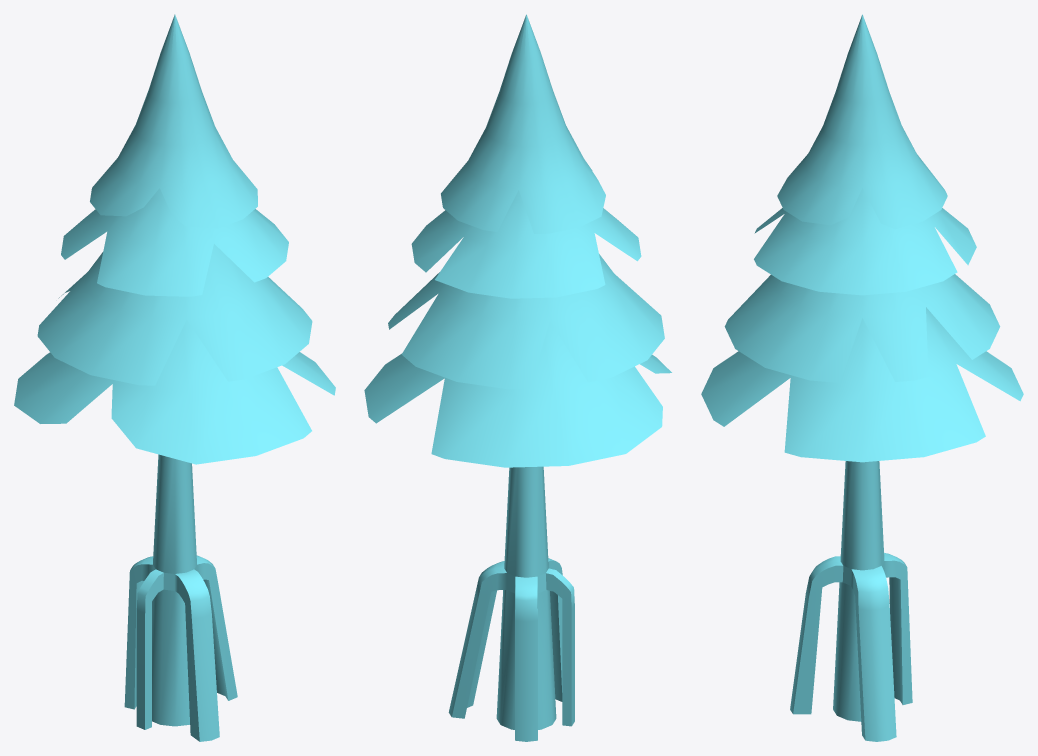
File: Arbol2_V2.fbx
3 renders of one model, left to right at view 1: azimuth 30°, elevation 25°; view 2: azimuth 150°, elevation 25°; view 3: azimuth 270°, elevation 25°, orthographic.
Parts seen in each view (by area): view 1: Hojas_Pantano_3, Hojas_Pantano_4, Tronco_Pantano, Hojas_Pantano_1, Hojas_Pantano_2; view 2: Hojas_Pantano_4, Hojas_Pantano_3, Tronco_Pantano, Hojas_Pantano_1, Hojas_Pantano_2; view 3: Hojas_Pantano_4, Tronco_Pantano, Hojas_Pantano_3, Hojas_Pantano_1, Hojas_Pantano_2.
Boxes of the visible parts, x1,y1,x2,y2 form: Hojas_Pantano_3: (37,244,312,385); Hojas_Pantano_4: (14,320,335,464); Tronco_Pantano: (124,454,237,741); Hojas_Pantano_1: (90,14,257,228); Hojas_Pantano_2: (61,188,288,296); Hojas_Pantano_4: (364,321,671,467); Hojas_Pantano_3: (388,254,664,389); Tronco_Pantano: (448,466,574,741); Hojas_Pantano_1: (441,14,605,233); Hojas_Pantano_2: (411,190,641,298); Hojas_Pantano_4: (701,307,1023,462); Tronco_Pantano: (790,461,912,741); Hojas_Pantano_3: (724,274,1000,382); Hojas_Pantano_1: (777,14,947,229); Hojas_Pantano_2: (754,188,976,295).
Size of the model in its own units: 76.6 by 78.24 by 186.
